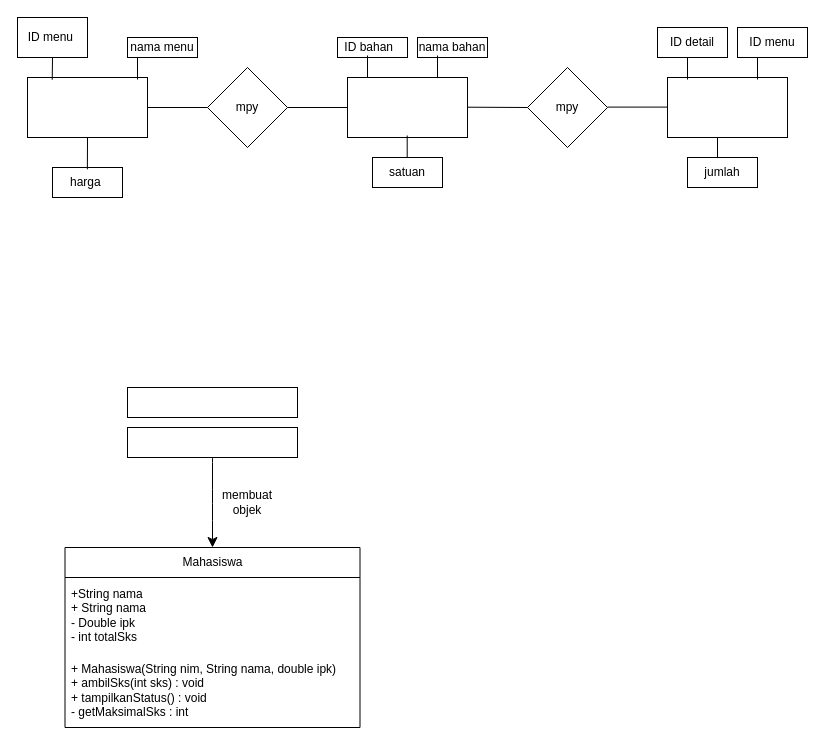
Some shapes in this 825 by 745 pixel diagram are drawn without their labels. Each missing label, with the box of its shape:
+ main(String[] args) : void: (126, 426, 298, 458)
bahan: (346, 76, 468, 138)
detail bahan: (666, 76, 788, 138)
Main: (126, 386, 298, 418)
Menu: (26, 76, 148, 138)
